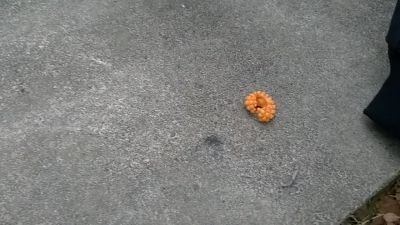eggs: (244, 89, 278, 125)
